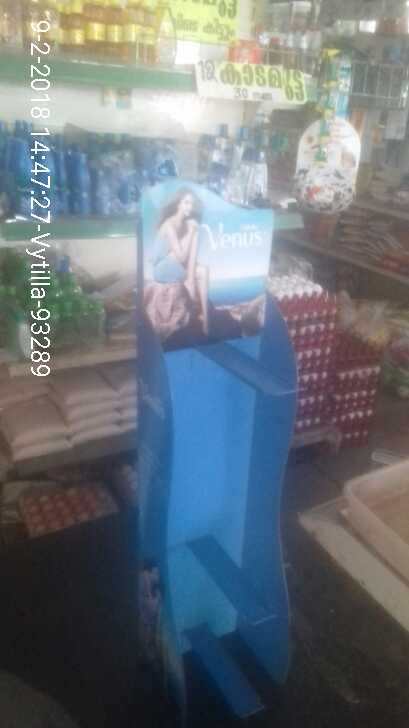reject: (178, 247, 307, 377)
